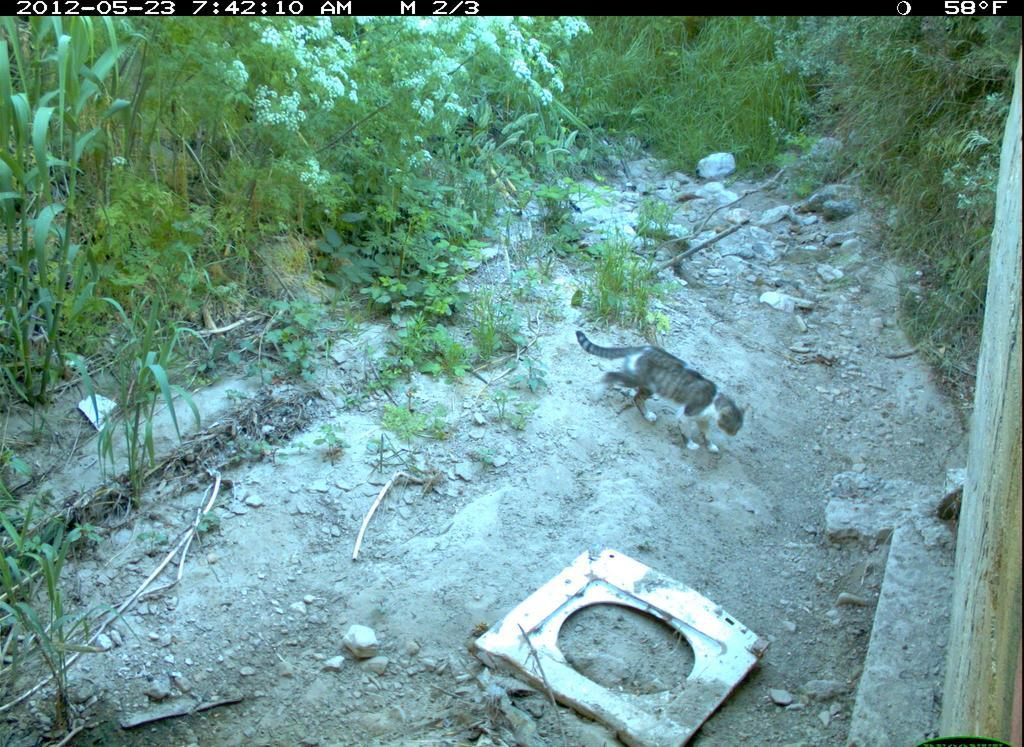cat: (568, 322, 753, 464)
